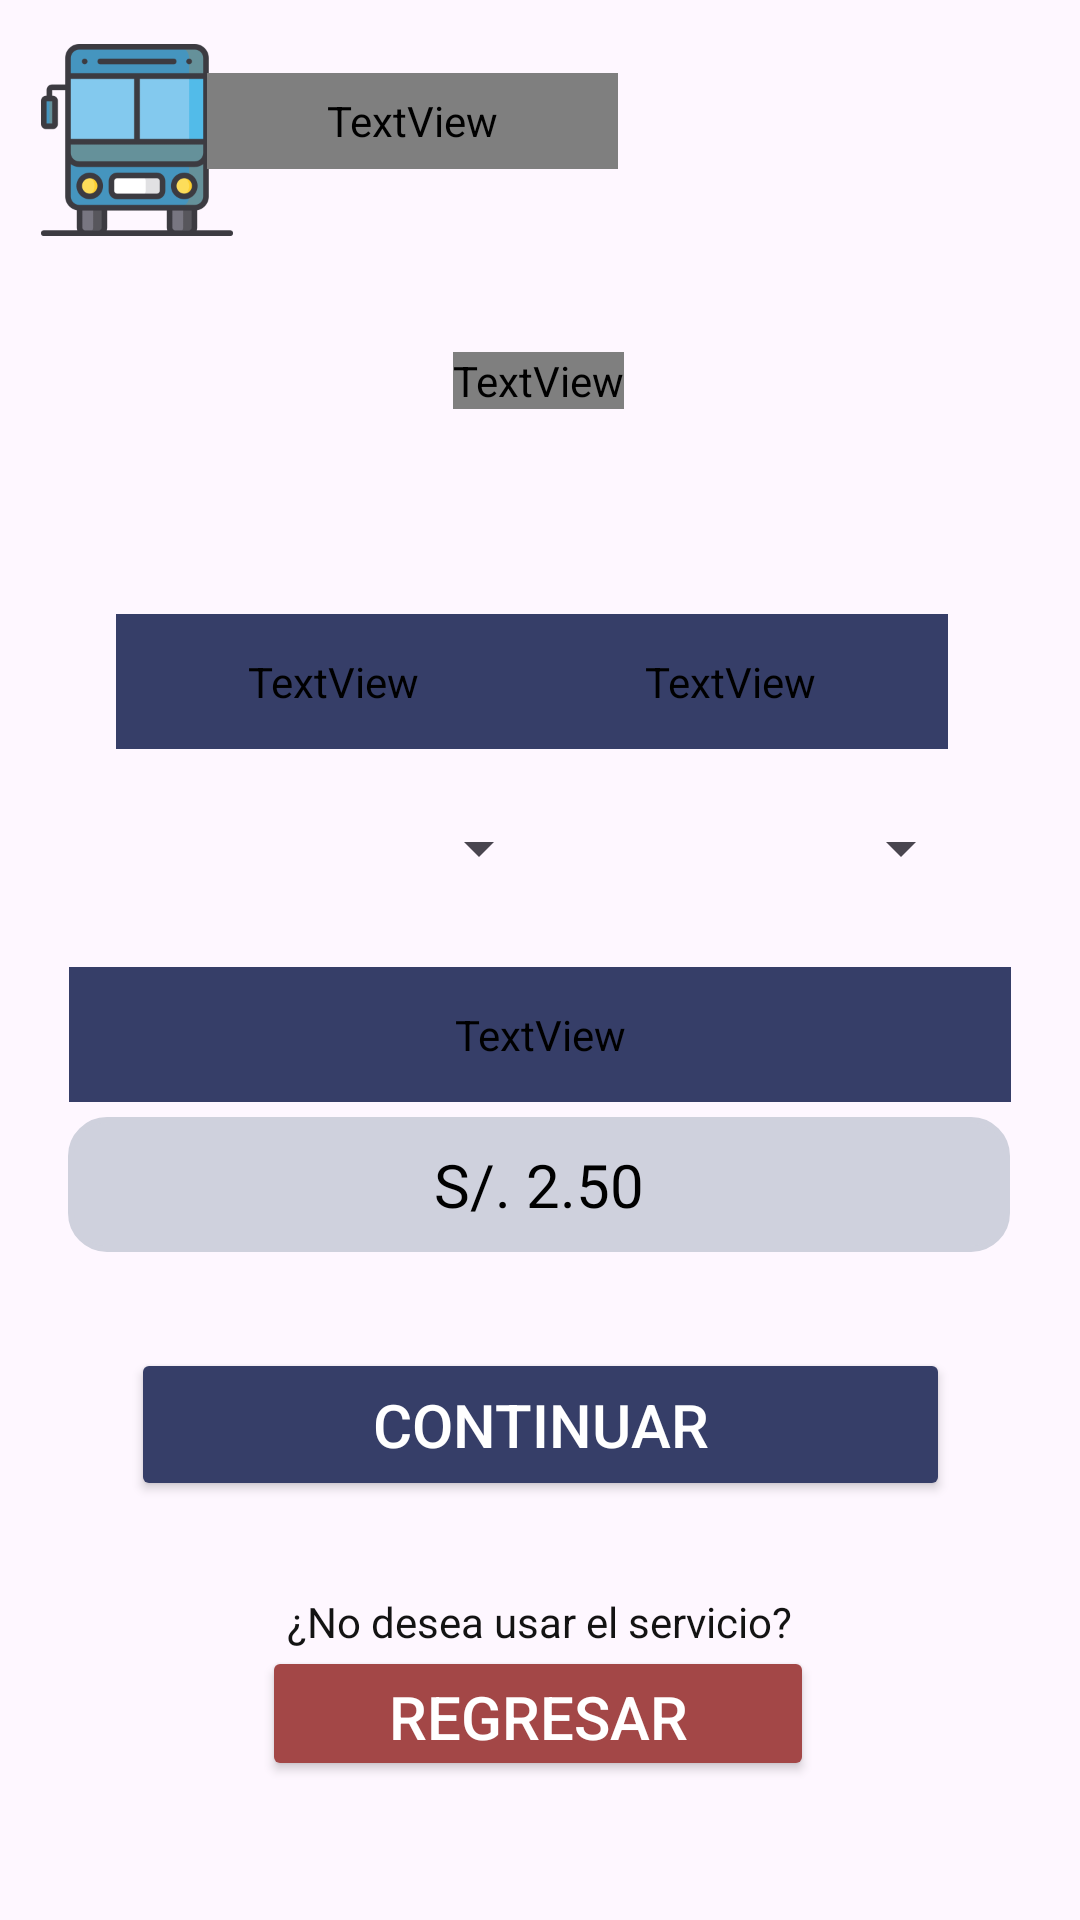

Icon bounding boxes for this 1080w x 1920h phone screenshot, format (x1,y1,x2,y2):
transporte publico: (41,44,233,236)
